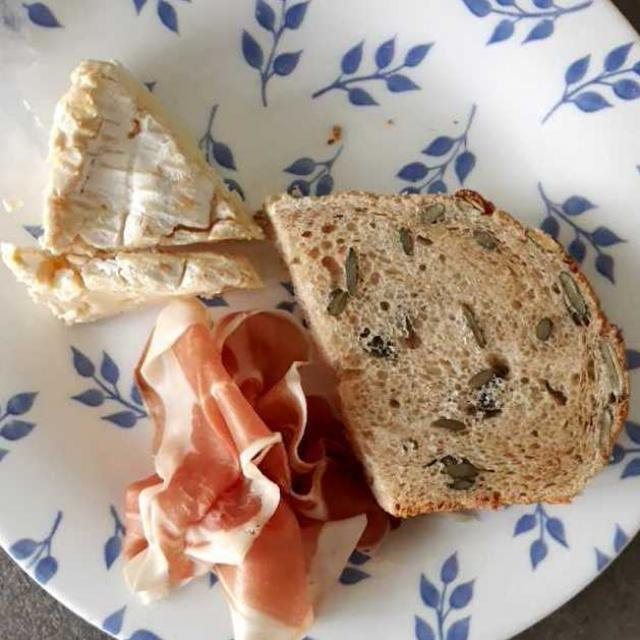bread: (267, 195, 622, 499)
cheese: (21, 65, 257, 307)
ham: (123, 314, 392, 622)
